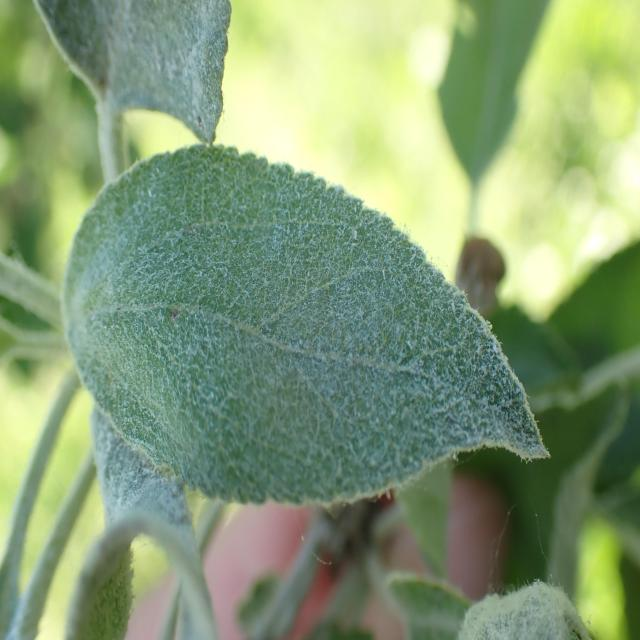Powdery_mildew: (30, 152, 562, 516), (31, 403, 226, 640), (12, 0, 255, 144), (438, 572, 616, 640)
